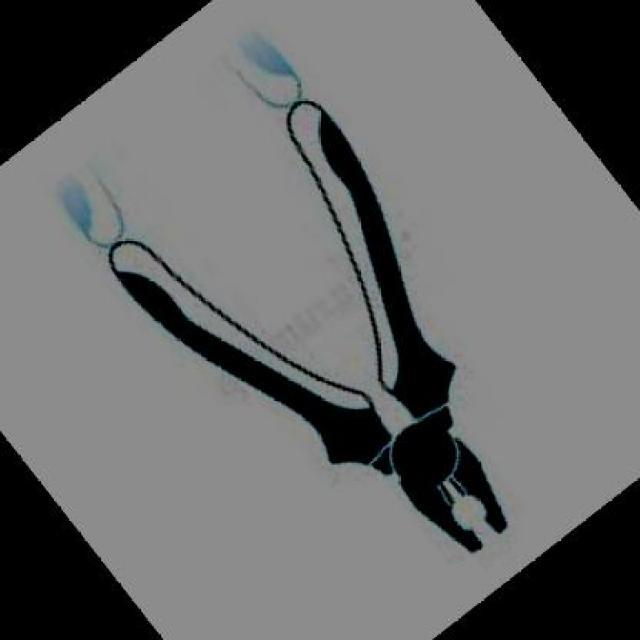pliers: (61, 39, 638, 638)
